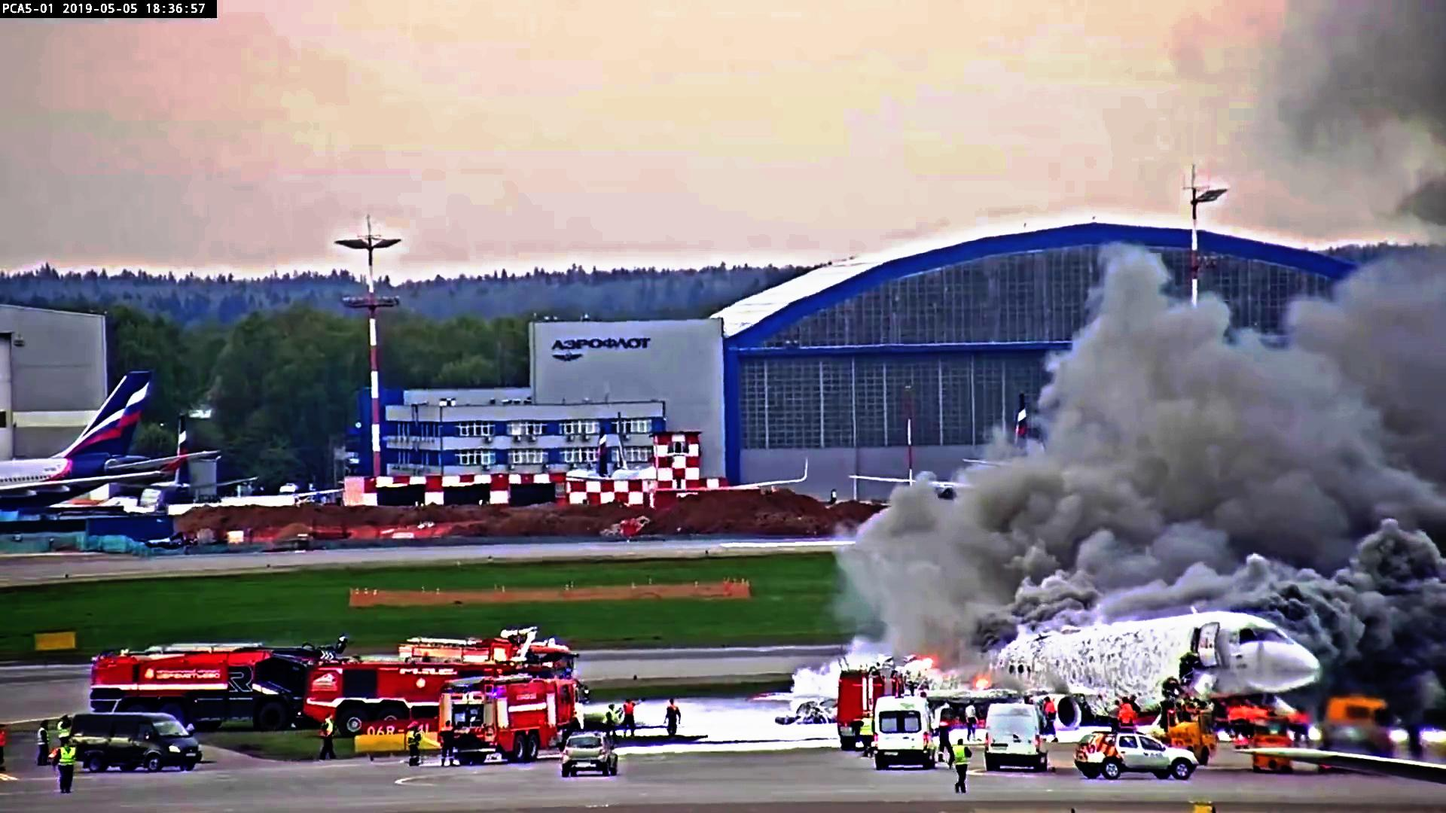smoke: (983, 454, 1279, 616), (1311, 251, 1446, 446), (859, 484, 995, 660), (1326, 493, 1446, 663)
